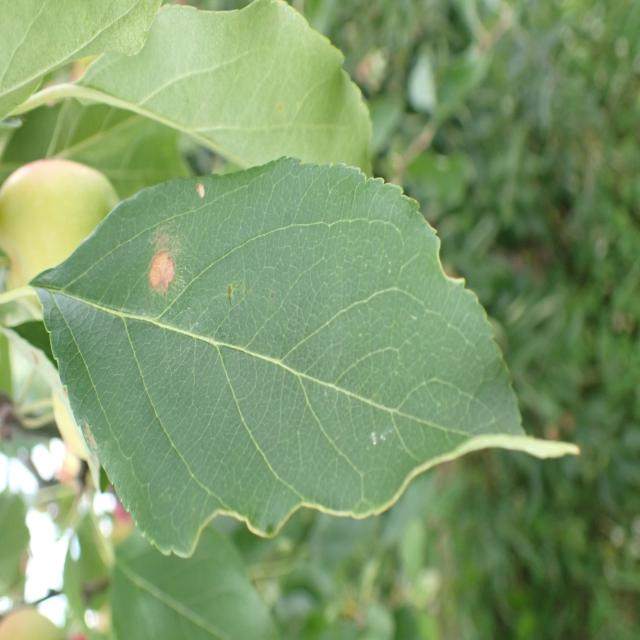frog-eye-leaf-spot: (31, 155, 582, 559)
